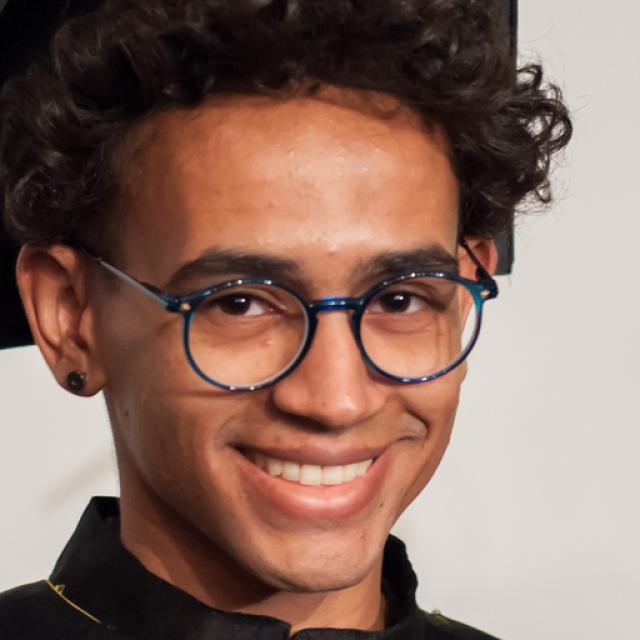Acne: (253, 334, 278, 352), (321, 243, 341, 261), (365, 142, 384, 159), (284, 146, 300, 163)
